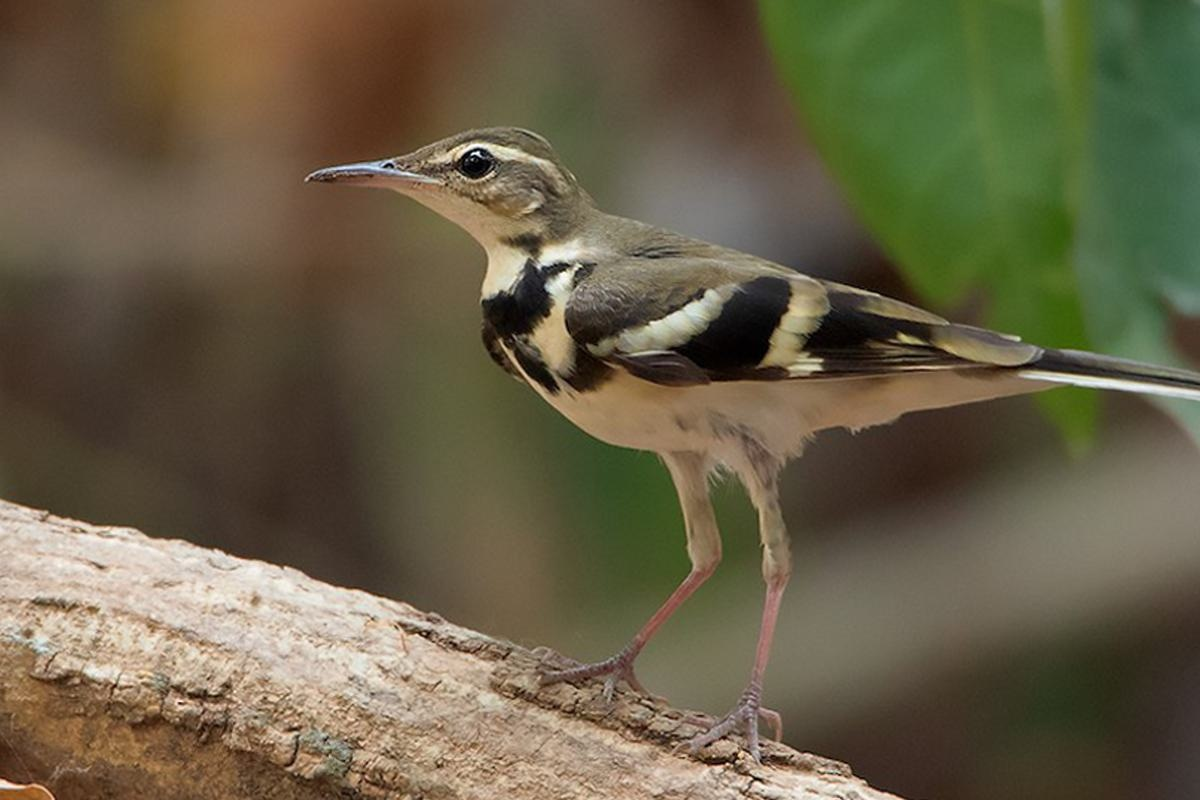wagtail: (306, 122, 1056, 733)
